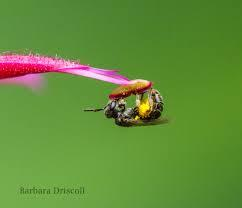Lasioglossum: (85, 78, 176, 131)
